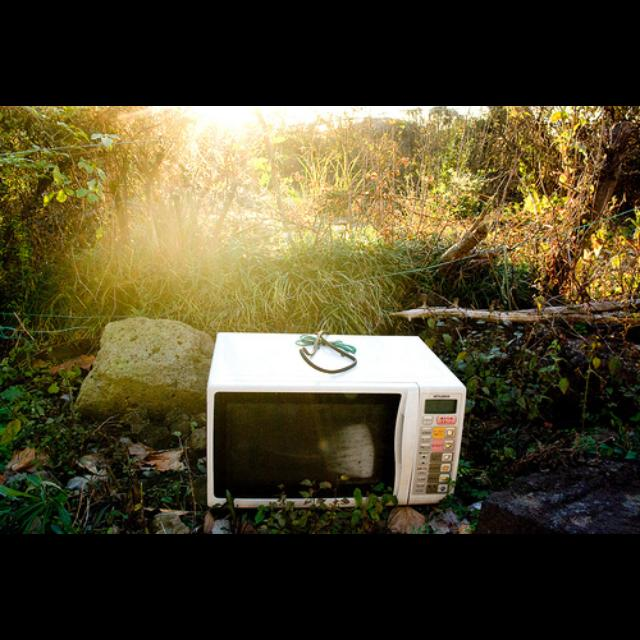Microwave: (206, 332, 463, 510)
